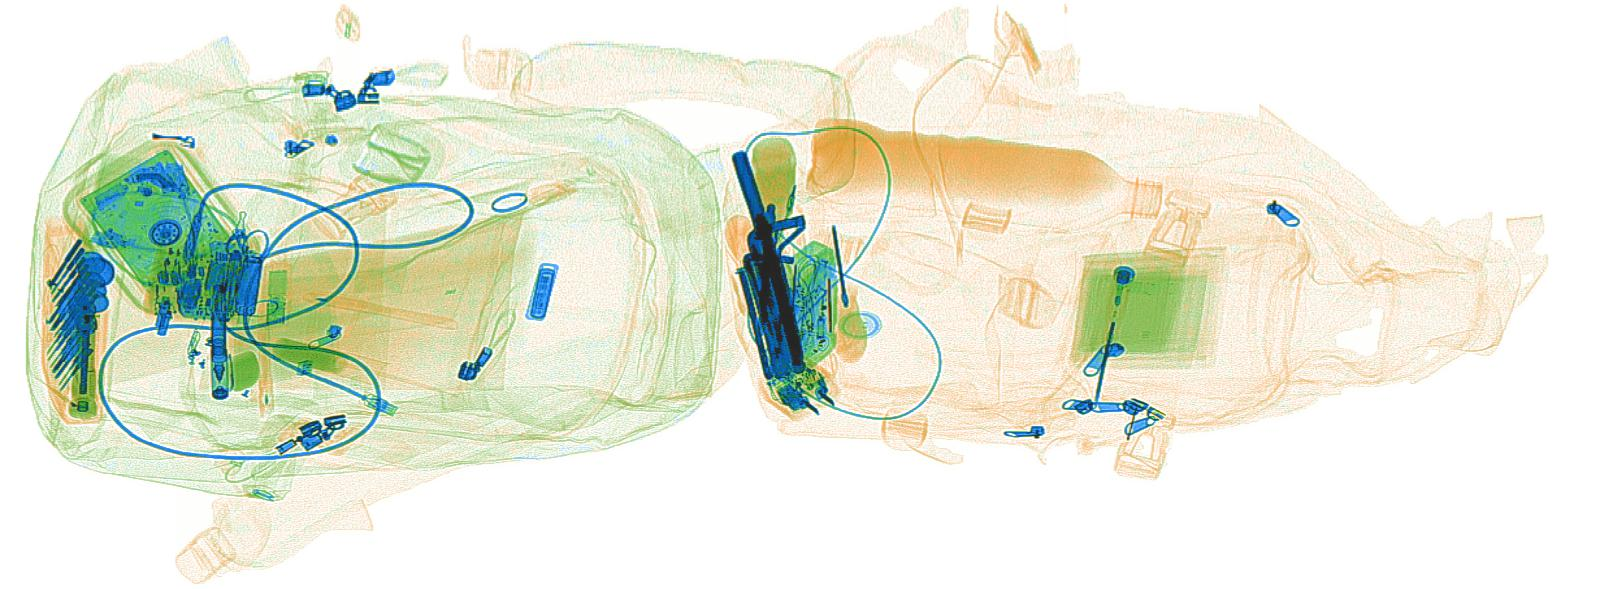USBFlashDisk: (262, 262, 290, 328)
